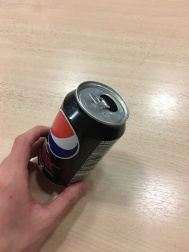can_black: (34, 66, 135, 204)
